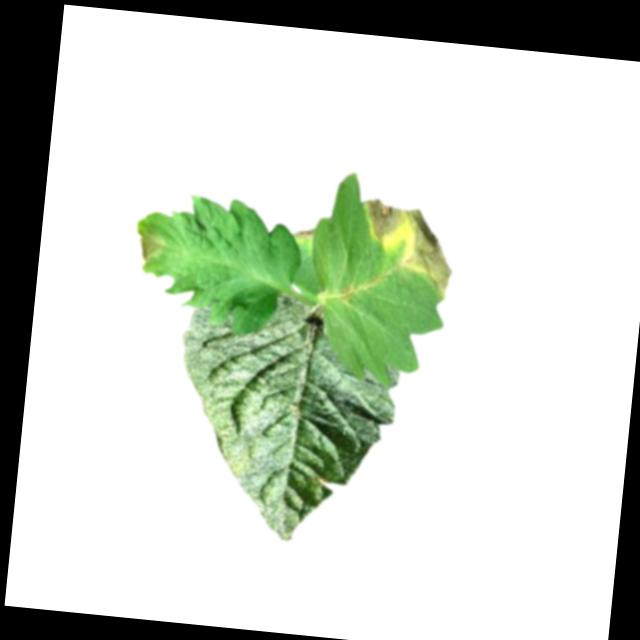Late_blight: (354, 196, 459, 300), (134, 227, 167, 270), (295, 227, 317, 240)
healthy: (162, 286, 407, 553)
